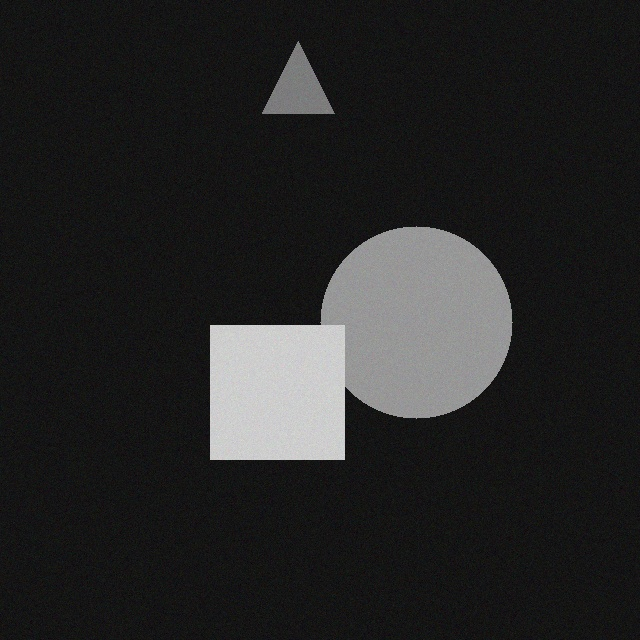circle: (333, 226, 525, 418)
square: (223, 325, 357, 459)
triangle: (275, 41, 347, 113)
